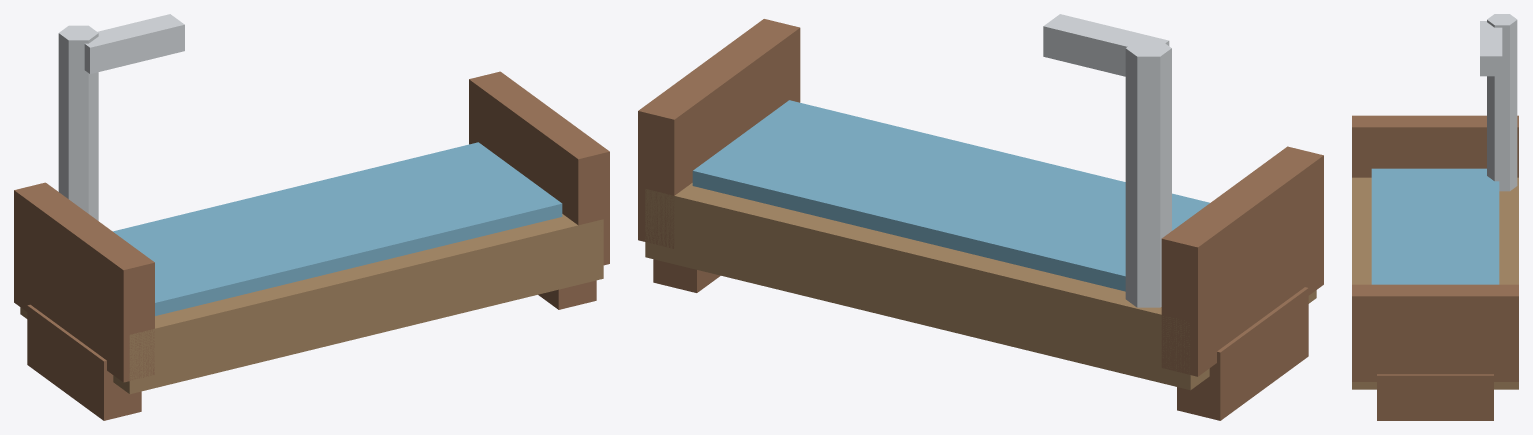
The model's file is water_trough.glb.
The picture shows the model from 3 angles, left to right: view 1: azimuth 30°, elevation 25°; view 2: azimuth 150°, elevation 25°; view 3: azimuth 270°, elevation 25°; orthographic projection. The views are drawn at different scales.
Visible parts, largest first — view 1: water, base.002, end_0, end_1, pump, leg_0, spout, leg_1; view 2: water, base.002, end_0, end_1, pump, leg_0, spout, leg_1; view 3: end_1, water, end_0, leg_1, pump, base.002, spout.
Part boxes in pixels (x1,y1,x2,y2): water: [113, 142, 562, 315]; base.002: [20, 214, 603, 394]; end_0: [14, 182, 154, 382]; end_1: [469, 71, 609, 265]; pump: [58, 25, 98, 220]; leg_0: [27, 304, 141, 420]; spout: [84, 14, 184, 73]; leg_1: [538, 280, 596, 309]; water: [692, 100, 1209, 291]; base.002: [645, 183, 1316, 390]; end_0: [1161, 146, 1323, 376]; end_1: [638, 19, 800, 248]; pump: [1125, 39, 1171, 307]; leg_0: [1177, 287, 1308, 420]; spout: [1043, 14, 1169, 76]; leg_1: [653, 259, 720, 292]; end_1: [1352, 284, 1518, 381]; water: [1371, 168, 1499, 284]; end_0: [1352, 115, 1518, 177]; leg_1: [1377, 374, 1493, 420]; pump: [1487, 14, 1517, 191]; base.002: [1352, 177, 1518, 389]; spout: [1480, 21, 1502, 76].
Bounding box in the file's own units: 1.56 × 0.95 × 0.6.
